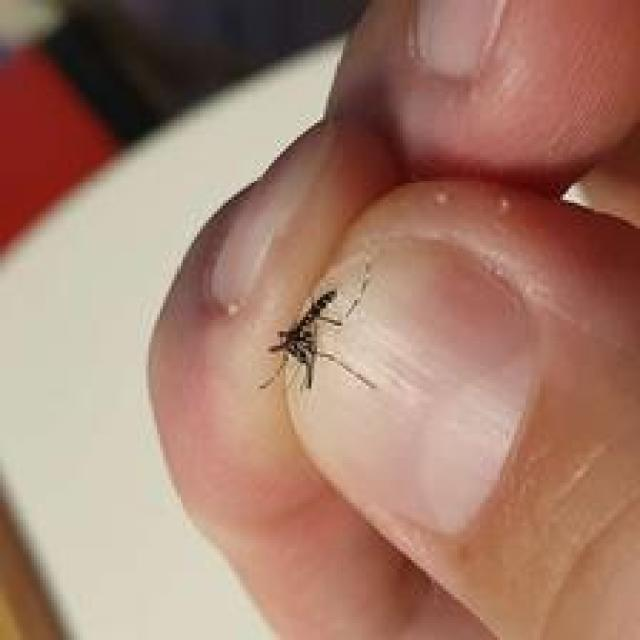Aedes albopictus: (257, 260, 377, 394)
